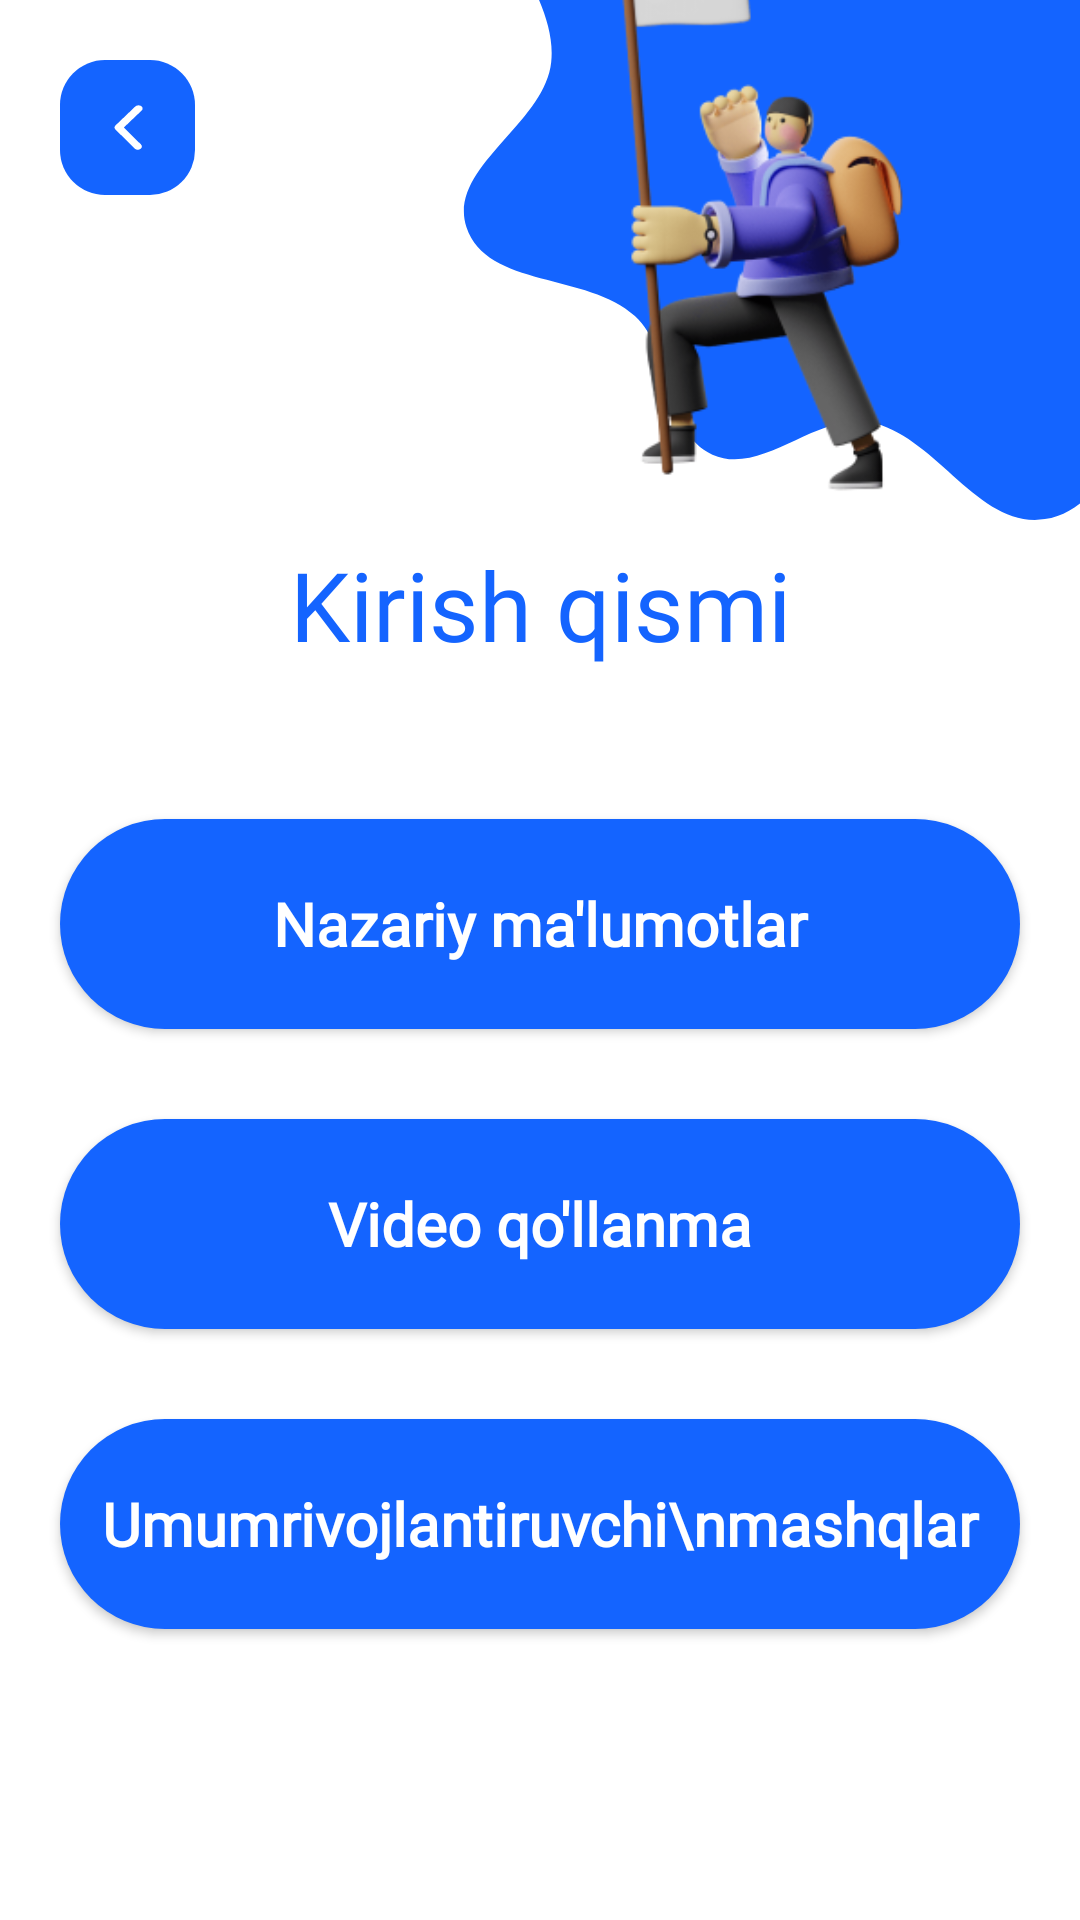

Icons on this 1080 × 1920 Android screen, each with the point to tap as (x=x, y=y):
left arrow: (x=127, y=127)
